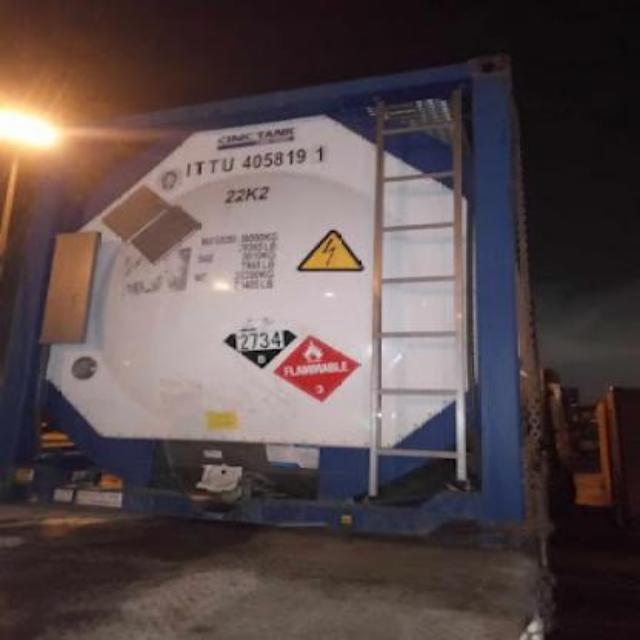0: (252, 150, 262, 168)
1: (312, 140, 330, 164), (284, 144, 294, 164)
4: (240, 148, 252, 172)
5: (262, 148, 272, 172)
8: (274, 145, 284, 169)
9: (296, 142, 306, 166)
I: (182, 156, 194, 180)
T: (202, 152, 218, 175), (194, 156, 204, 180)
U: (219, 150, 235, 177)
